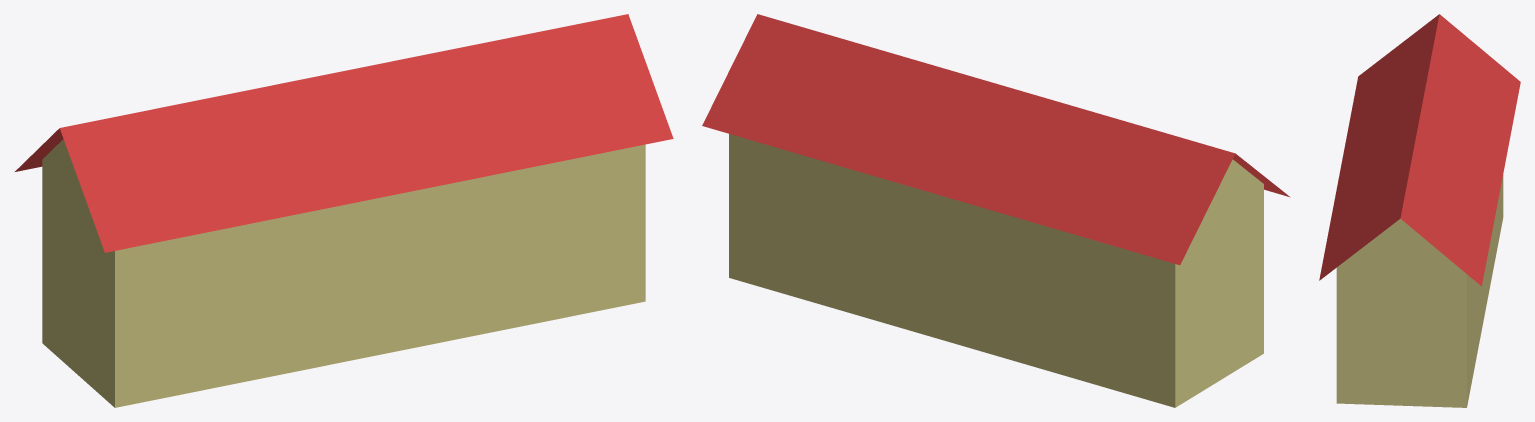
3 renders of one model, left to right at view 1: azimuth 30°, elevation 25°; view 2: azimuth 150°, elevation 25°; view 3: azimuth 270°, elevation 25°, orthographic. The views are drawn at different scales.
Visible parts, largest first — view 1: group_5, group_3, group_4; view 2: group_5, group_3, group_4; view 3: group_3, group_5, group_4.
Part boxes in pixels (left/top/right/bottom): group_5: left=42, top=139, right=645, bottom=407; group_3: left=50, top=14, right=673, bottom=252; group_4: left=15, top=14, right=671, bottom=252; group_5: left=729, top=134, right=1263, bottom=407; group_3: left=704, top=14, right=1290, bottom=264; group_4: left=702, top=15, right=1247, bottom=224; group_3: left=1319, top=14, right=1520, bottom=285; group_5: left=1336, top=175, right=1503, bottom=407; group_4: left=1319, top=14, right=1505, bottom=285.
Size of the model in its own units: 30.77 by 12.48 by 13.24.
